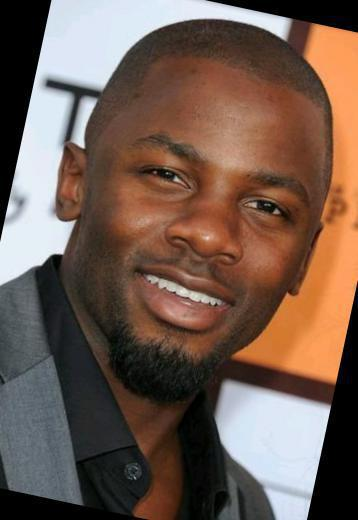Sober: (127, 77, 302, 352)
